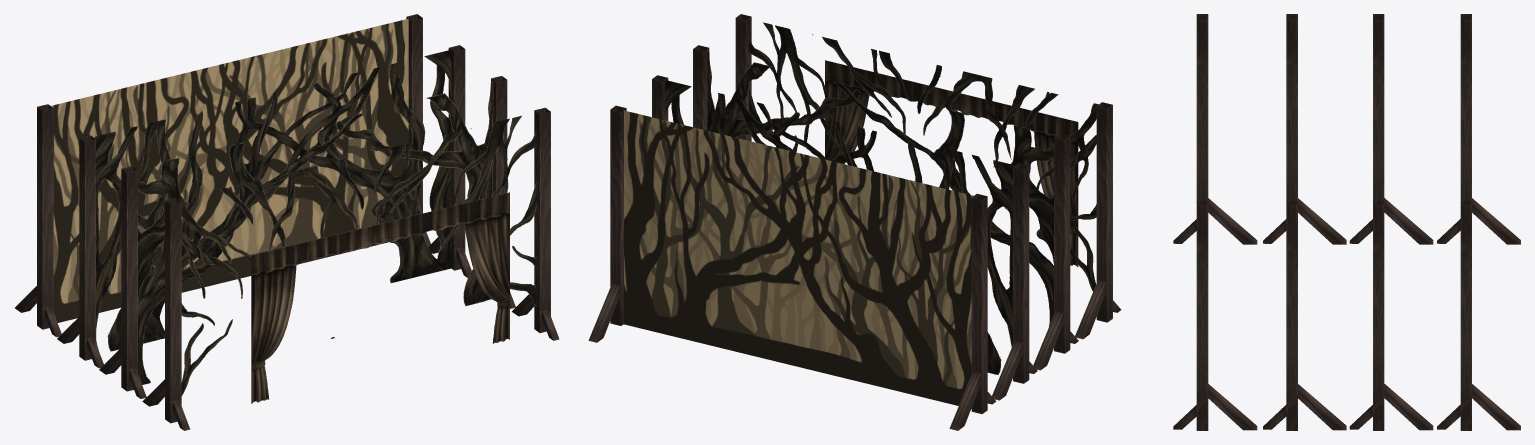
Rendered from Theater.Setpieces.fbx.
The picture shows the model from 3 angles, left to right: view 1: azimuth 30°, elevation 25°; view 2: azimuth 150°, elevation 25°; view 3: azimuth 270°, elevation 25°; orthographic projection. The views are drawn at different scales.
Parts seen in each view (by area): view 1: Curtains; view 2: Curtains; view 3: Curtains.
Part boxes in pixels (x1,y1,x2,y2): Curtains: (15, 14, 559, 430); Curtains: (588, 14, 1121, 430); Curtains: (1173, 14, 1520, 430).
Size of the model in its own units: 795 by 437 by 651.
